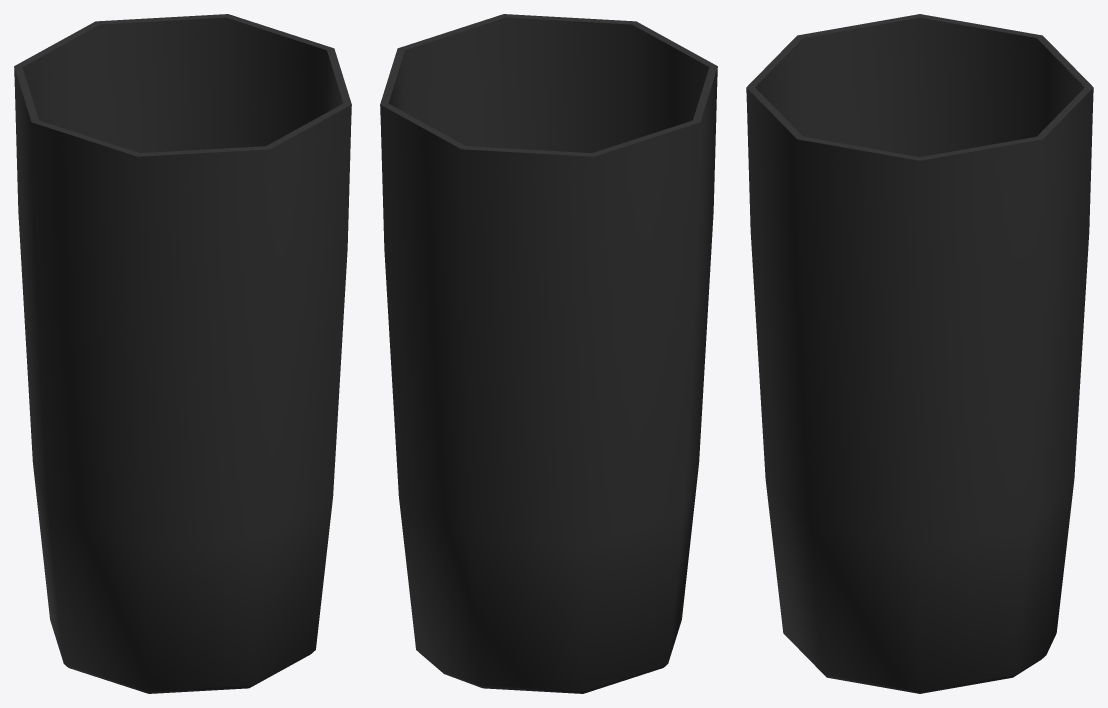
Rendered from p6_bar_shaker_cup_lod1.glb.
3 views of the same model, side by side, from view 1: azimuth 30°, elevation 25°; view 2: azimuth 150°, elevation 25°; view 3: azimuth 270°, elevation 25° (orthographic).
Parts seen in each view (by area): view 1: surf0, surf1; view 2: surf0, surf1; view 3: surf0, surf1.
Boxes of the visible parts, box(x1,y1,x2,y2) form: surf0: box(14, 35, 351, 693); surf1: box(14, 14, 351, 174); surf0: box(380, 35, 717, 693); surf1: box(380, 14, 717, 174); surf0: box(747, 35, 1092, 693); surf1: box(746, 14, 1093, 177).
Size of the model in its own units: 4 by 7 by 4.
